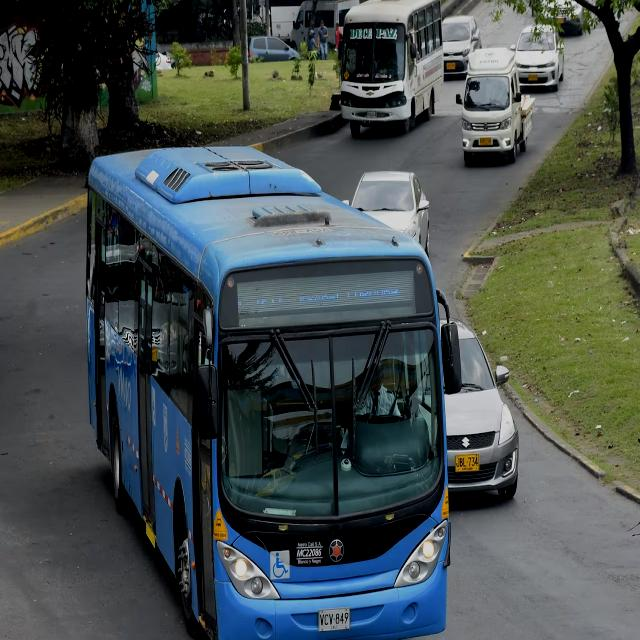BUS: (84, 145, 454, 639), (336, 2, 441, 138)
TRUCK: (457, 46, 532, 167)
